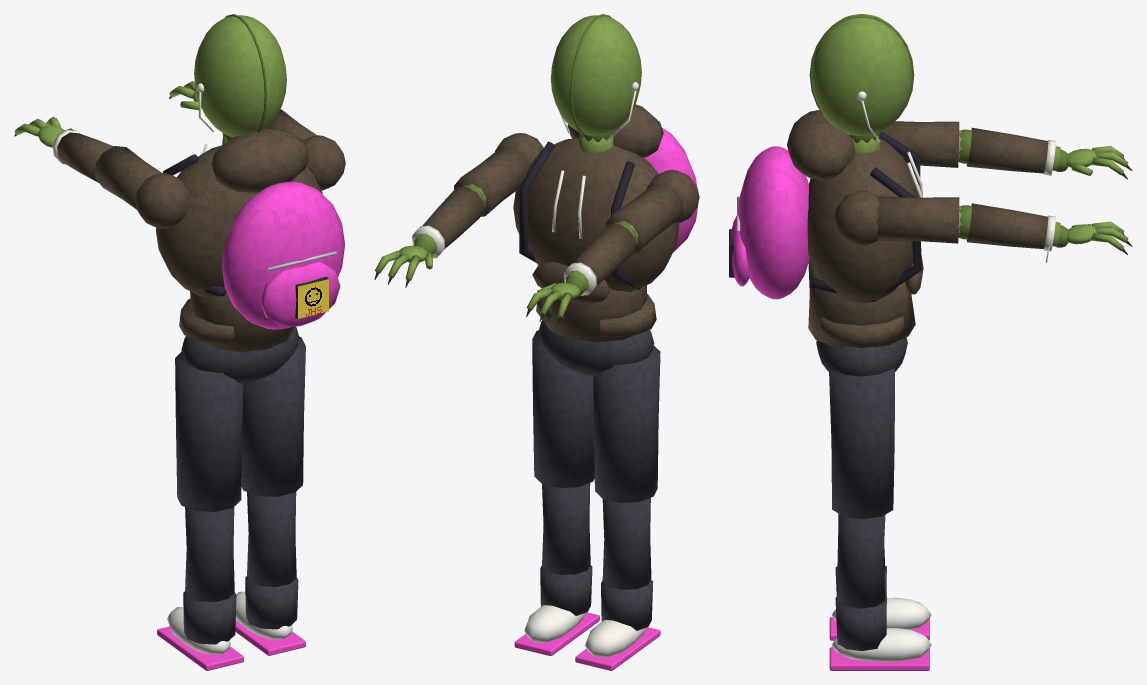
The model's file is z_student.glb.
3 renders of one model, left to right at view 1: azimuth 30°, elevation 25°; view 2: azimuth 150°, elevation 25°; view 3: azimuth 270°, elevation 25°, orthographic. The views are drawn at different scales.
Visible parts, largest first — view 1: part_body, part_legL, part_head, part_kneeL, part_kneeR, part_legR, part_armL, part_arm; view 2: part_body, part_head, part_legL, part_kneeL, part_kneeR, part_legR, part_armL, part_arm; view 3: part_body, part_head, part_kneeR, part_legR, part_arm, part_armL, part_kneeL.
Boxes of the visible parts, bbox=[...] form: part_body: bbox=[135, 129, 345, 383]; part_legL: bbox=[175, 351, 243, 511]; part_head: bbox=[194, 14, 286, 140]; part_kneeL: bbox=[157, 507, 243, 670]; part_kneeR: bbox=[235, 492, 305, 655]; part_legR: bbox=[241, 336, 305, 496]; part_armL: bbox=[14, 116, 161, 209]; part_arm: bbox=[169, 81, 316, 139]; part_body: bbox=[495, 104, 699, 376]; part_head: bbox=[550, 14, 641, 142]; part_legL: bbox=[593, 346, 660, 502]; part_kneeL: bbox=[575, 497, 660, 670]; part_kneeR: bbox=[514, 483, 599, 656]; part_legR: bbox=[532, 330, 594, 488]; part_armL: bbox=[526, 183, 683, 324]; part_arm: bbox=[374, 146, 530, 287]; part_body: bbox=[729, 110, 923, 376]; part_head: bbox=[809, 14, 914, 142]; part_kneeR: bbox=[829, 513, 931, 670]; part_legR: bbox=[829, 367, 894, 519]; part_arm: bbox=[876, 196, 1132, 262]; part_armL: bbox=[882, 121, 1132, 179]; part_kneeL: bbox=[829, 535, 931, 640].
Bounding box in the file's own units: 0.656 × 1.95 × 1.13.
13 materials, 8 textured.
